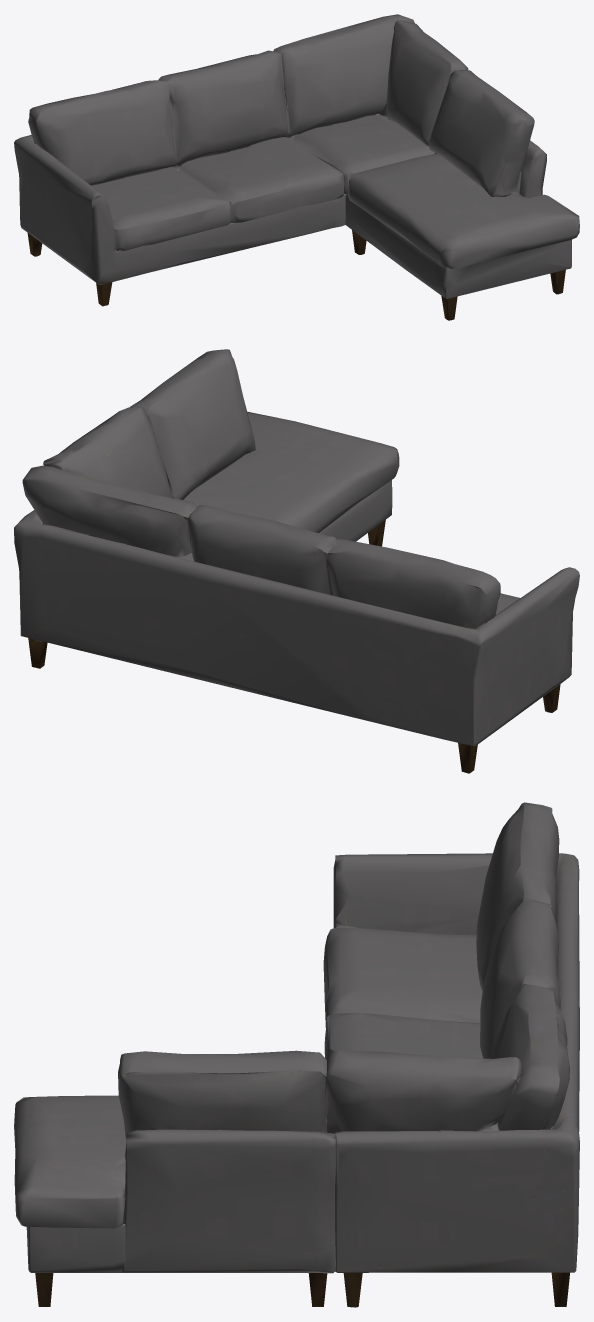
The model's file is ekholma.glb.
The picture shows the model from 3 angles, top to bottom: view 1: azimuth 30°, elevation 25°; view 2: azimuth 150°, elevation 25°; view 3: azimuth 270°, elevation 25°; orthographic projection. The views are drawn at different scales.
Parts seen in each view (by area): view 1: ASY_ART_40572196_S01_NV01; view 2: ASY_ART_40572196_S01_NV01; view 3: ASY_ART_40572196_S01_NV01.
Boxes of the visible parts, x1,y1,x2,y2 form: ASY_ART_40572196_S01_NV01: [14, 14, 579, 320]; ASY_ART_40572196_S01_NV01: [14, 349, 579, 773]; ASY_ART_40572196_S01_NV01: [14, 802, 579, 1307].
Size of the model in its own units: 2.39 by 0.9539 by 1.98.
Materials: 1 (1 with a texture image).
